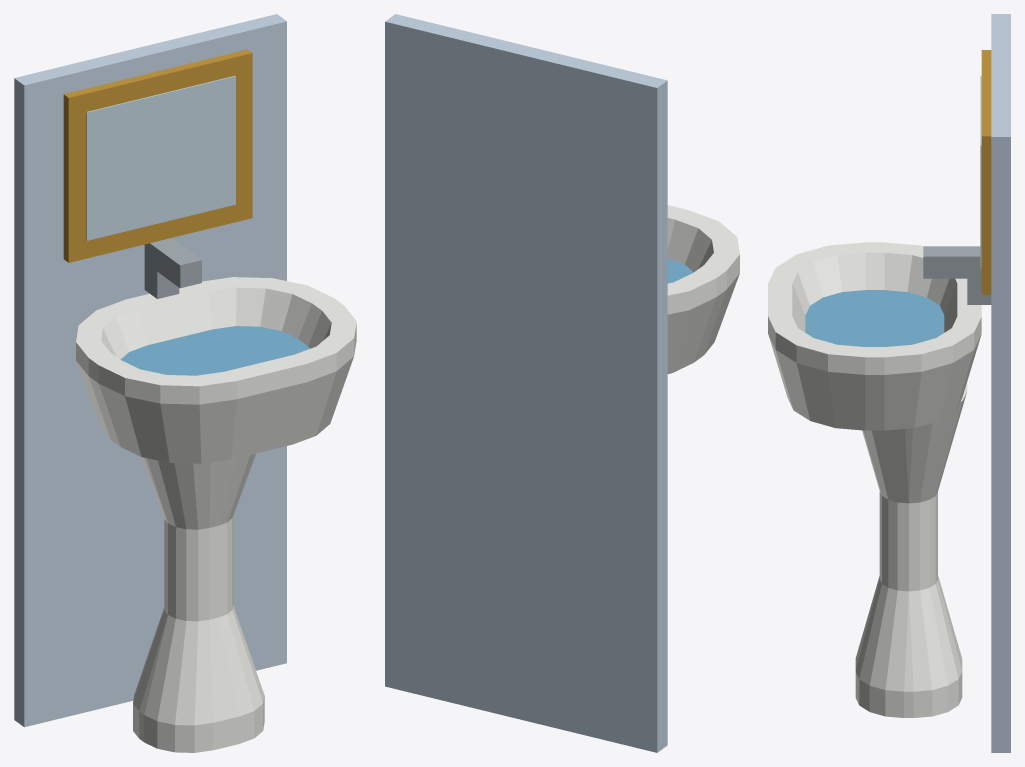
The model's file is sink.glb.
3 views of the same model, side by side, from view 1: azimuth 30°, elevation 25°; view 2: azimuth 150°, elevation 25°; view 3: azimuth 270°, elevation 25° (orthographic). The views are drawn at different scales.
Visible parts, largest first — view 1: sink_Body; view 2: sink_Body; view 3: sink_Body.
Part boxes in pixels (x1,y1,x2,y2): sink_Body: (14, 14, 356, 752); sink_Body: (385, 14, 739, 752); sink_Body: (768, 14, 1010, 752).
Bounding box in the file's own units: 0.6 × 1.4 × 0.5.
